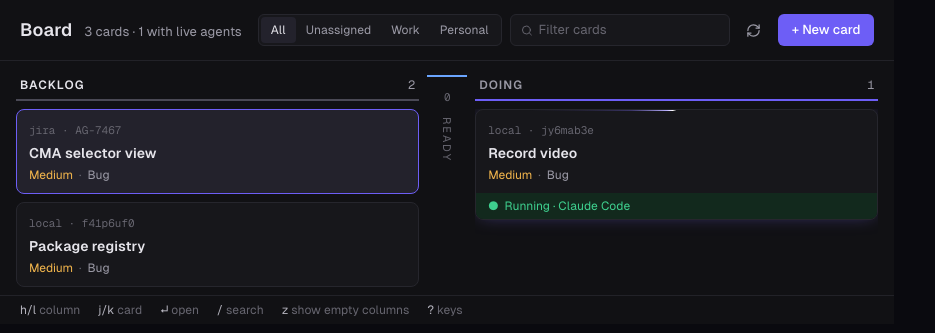
Test: Board layout › filters the cards by title or key as the person types
Type "registry" into the field labelled "Filter cards" at (629, 30), box [538,20,719,40]
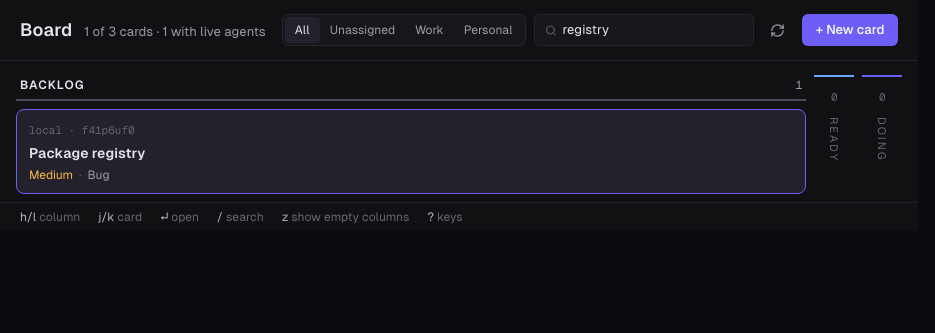
Expected: the text "Package registry" is shown, [29,145,145,161]
Result: the text "CMA selector view" is gone
Replace the text in the field named "Filter cards" with "ag-74" at (653, 30), box [562,20,743,40]
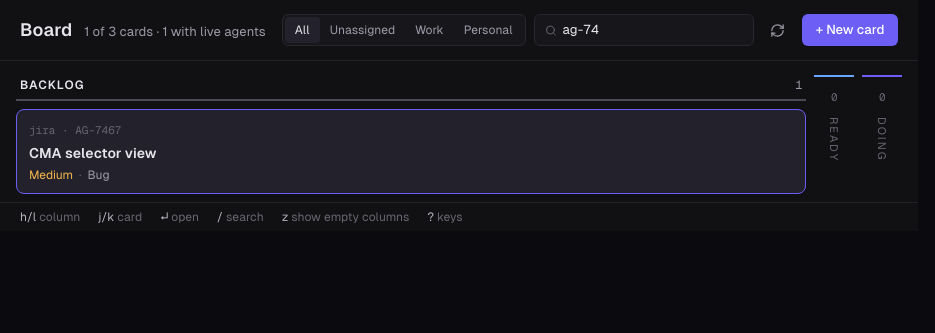
Result: the text "CMA selector view" is shown at [29,145,156,161]
Result: the text "Package registry" is gone
Press Escape in the field named "Filter cards", box [562,20,743,40]
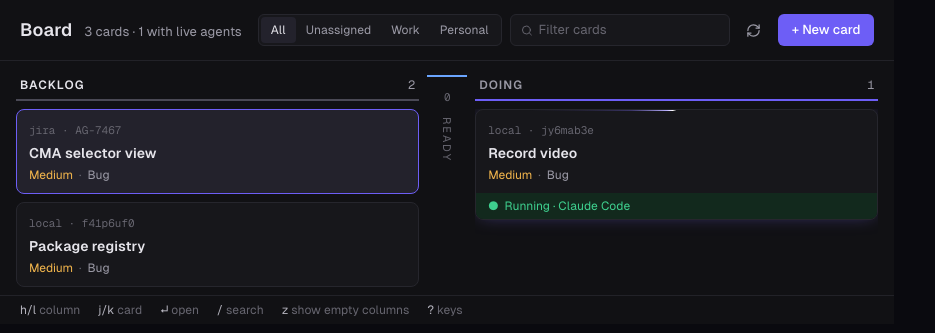
Result: the field labelled "Filter cards" is empty at [538,20,719,40]
Result: the text "Package registry" is shown at [29,238,145,254]
